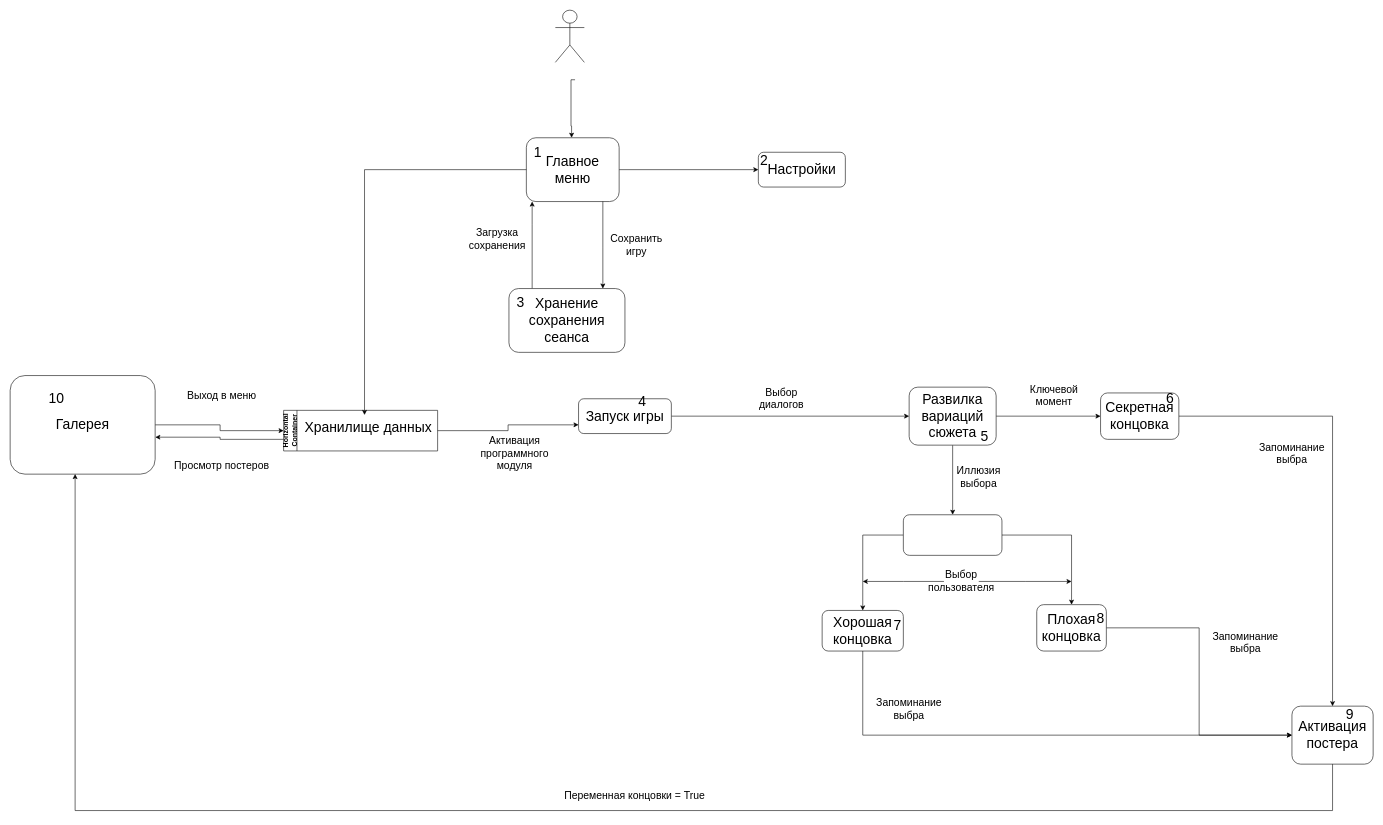
Image size: 1383x825. Some labels were removed from this diagram. The centre of each missing label's shape, as x and y in pixels:
Пользователь: the point at 569,36
Продолжение сюжета: the point at 952,534
